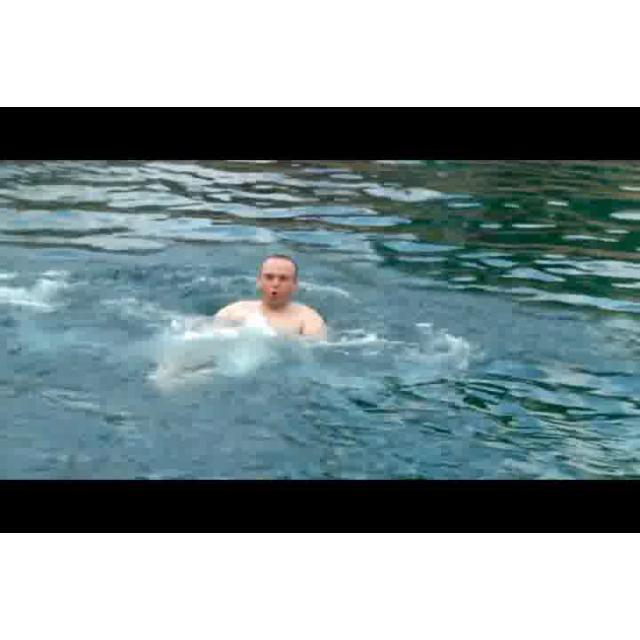human: (201, 259, 332, 347)
